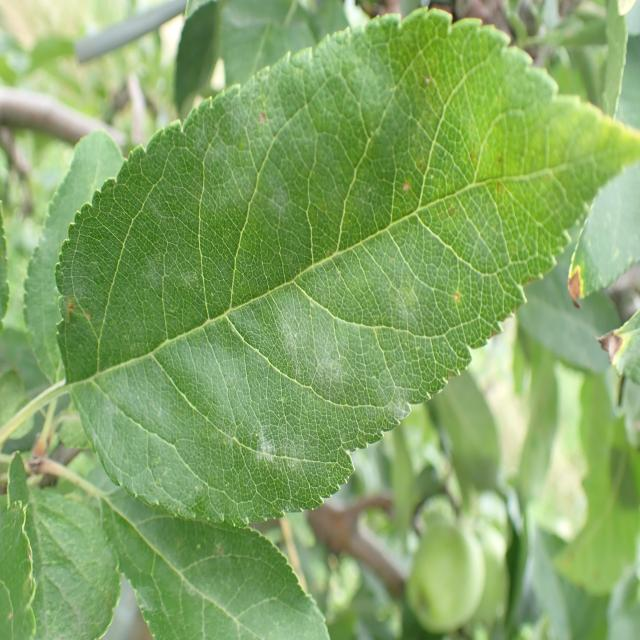Powdery_mildew: (90, 35, 601, 507)
